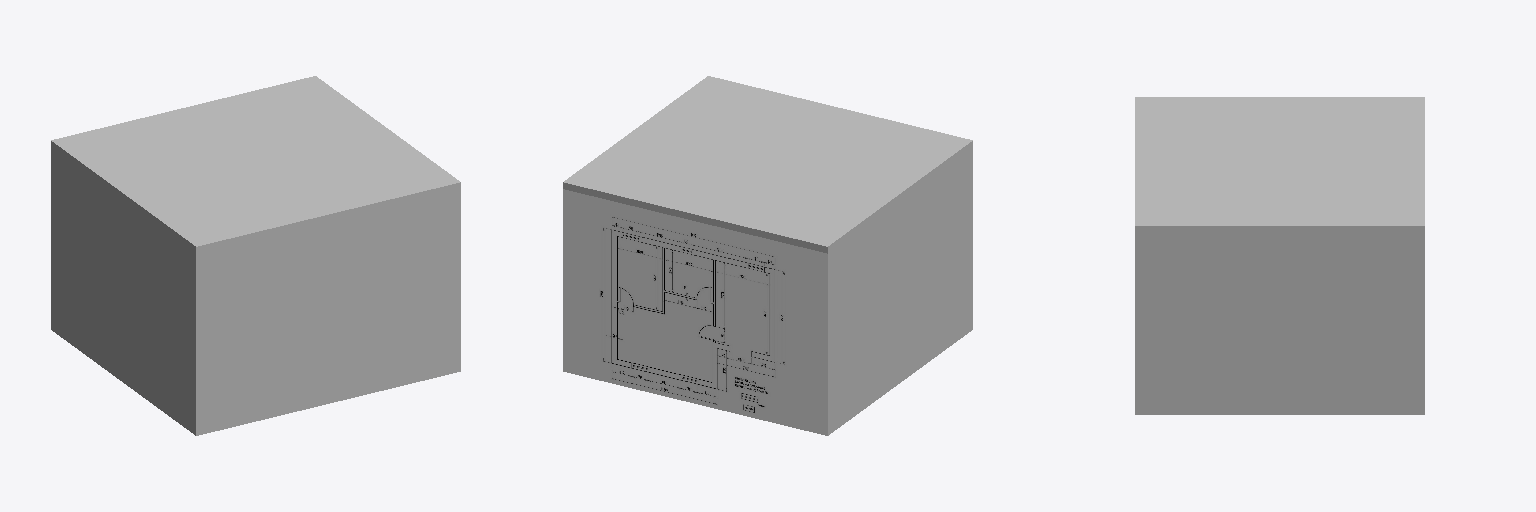
The picture shows the model from 3 angles: view 1: azimuth 30°, elevation 25°; view 2: azimuth 150°, elevation 25°; view 3: azimuth 270°, elevation 25°; orthographic projection.
Parts seen in each view (by area): view 1: pareti, ceil; view 2: pareti, ceil; view 3: pareti, ceil.
Boxes of the visible parts, x1=… form: pareti: x1=51, y1=148, x2=460, y2=435; ceil: x1=51, y1=76, x2=460, y2=253; pareti: x1=563, y1=148, x2=972, y2=435; ceil: x1=563, y1=76, x2=972, y2=253; pareti: x1=1135, y1=233, x2=1424, y2=414; ceil: x1=1135, y1=97, x2=1424, y2=232.
Size of the model in its own units: 4.1 by 2.8 by 3.9.
Materials: 6 (3 with a texture image).